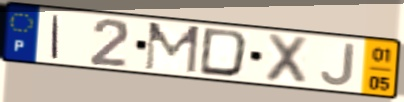2: (88, 17, 134, 70)
D: (196, 26, 251, 80)
I: (49, 13, 62, 61)
J: (318, 41, 358, 87)
M: (141, 21, 202, 76)
X: (262, 31, 311, 87)
